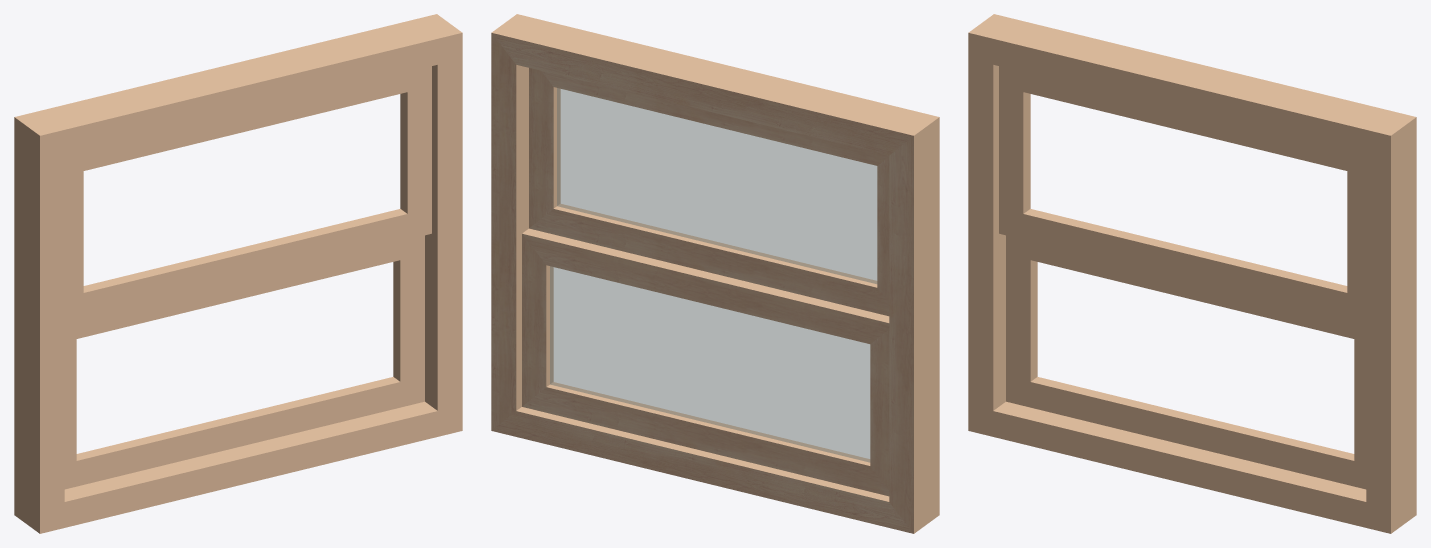
Rendered from finestra-larga-texture.glb.
3 renders of one model, left to right at view 1: azimuth 30°, elevation 25°; view 2: azimuth 150°, elevation 25°; view 3: azimuth 330°, elevation 25°, orthographic.
Visible parts, largest first — view 1: wallWindowSlide(Clone), windowWideTop, windowWideBottom; view 2: windowWideBottom, wallWindowSlide(Clone), windowWideTop; view 3: wallWindowSlide(Clone), windowWideTop, windowWideBottom.
Boxes of the visible parts, x1,y1,x2,y2 form: wallWindowSlide(Clone): (14,14,462,533); windowWideTop: (64,66,431,322); windowWideBottom: (64,235,424,489); windowWideBottom: (522,228,889,496); wallWindowSlide(Clone): (491,14,939,533); windowWideTop: (529,68,889,316); wallWindowSlide(Clone): (968,14,1416,533); windowWideTop: (999,66,1366,322); windowWideBottom: (1006,235,1366,489).
Size of the model in its own units: 0.848 by 0.7635 by 0.0891.
Materials: 3 (1 with a texture image).
